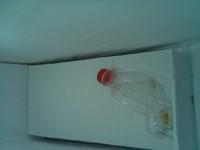bottle: (96, 68, 173, 138)
